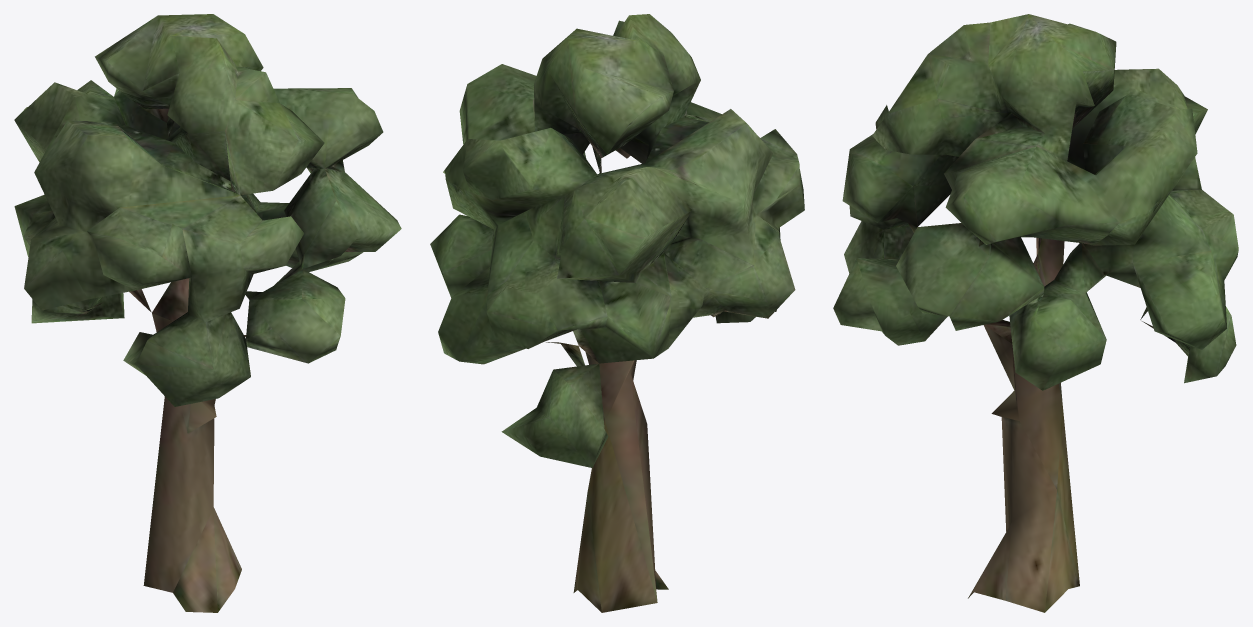
The model's file is arbre-semis.glb.
The picture shows the model from 3 angles, left to right: view 1: azimuth 30°, elevation 25°; view 2: azimuth 150°, elevation 25°; view 3: azimuth 270°, elevation 25°; orthographic projection. The views are drawn at different scales.
Parts seen in each view (by area): view 1: arbre-semis; view 2: arbre-semis; view 3: arbre-semis.
Part boxes in pixels (x1=…): arbre-semis: x1=14, y1=14, x2=401, y2=612; arbre-semis: x1=430, y1=14, x2=804, y2=612; arbre-semis: x1=833, y1=14, x2=1238, y2=612.
Size of the model in its own units: 1.23 by 1.94 by 1.22.
Materials: 1 (1 with a texture image).
